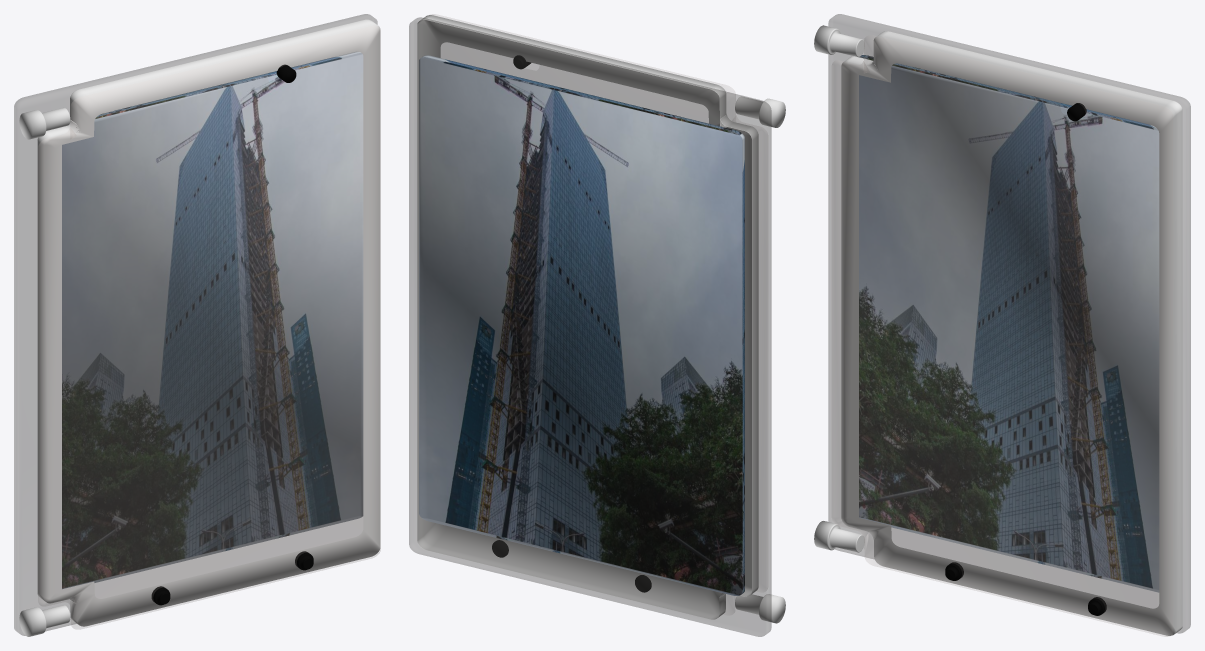
Rendered from a5vertlf8.glb.
3 views of the same model, side by side, from view 1: azimuth 30°, elevation 25°; view 2: azimuth 150°, elevation 25°; view 3: azimuth 330°, elevation 25° (orthographic).
Parts seen in each view (by area): view 1: a4vertoneinittwo; view 2: a4vertoneinittwo; view 3: a4vertoneinittwo.
Boxes of the visible parts, <box> form: a4vertoneinittwo: <box>14,14,380,636</box>; a4vertoneinittwo: <box>409,14,785,636</box>; a4vertoneinittwo: <box>814,14,1190,636</box>.
Bounding box in the file's own units: 0.2302 × 0.3277 × 0.0211.
6 materials, 1 textured.
